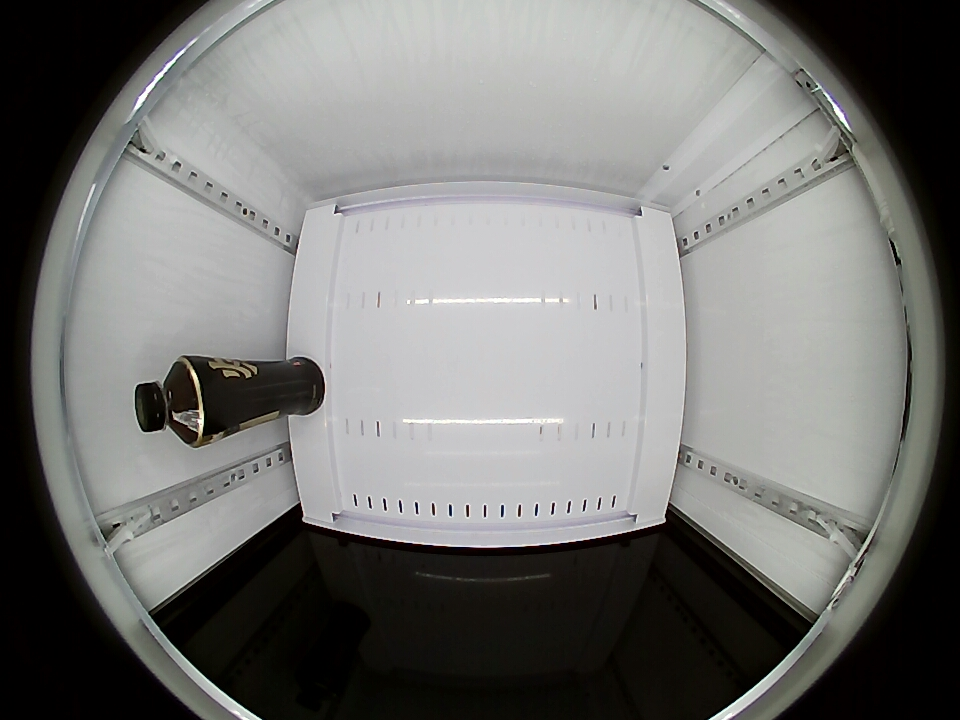rancha-1: (134, 356, 207, 447)
